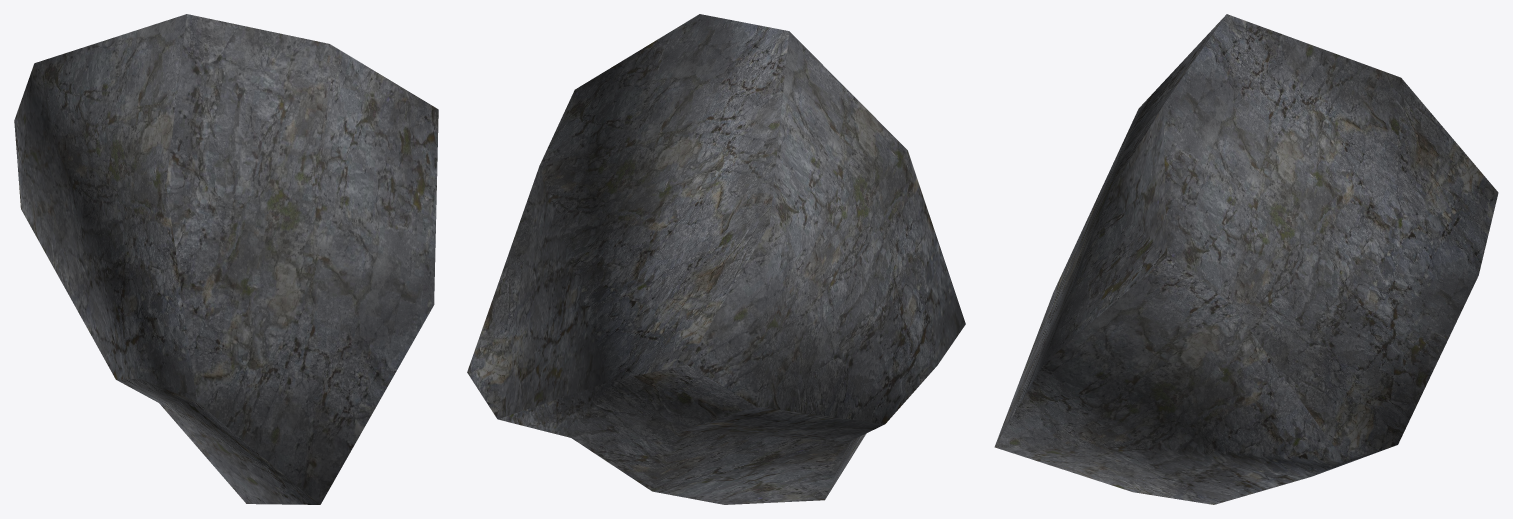
The model's file is largerRock01.fbx.
3 renders of one model, left to right at view 1: azimuth 30°, elevation 25°; view 2: azimuth 150°, elevation 25°; view 3: azimuth 270°, elevation 25°, orthographic. The views are drawn at different scales.
Visible parts, largest first — view 1: rock.000; view 2: rock.000; view 3: rock.000.
Part boxes in pixels (box(x1,y1,x2,y2)): rock.000: box(14, 14, 438, 504); rock.000: box(467, 14, 965, 504); rock.000: box(994, 14, 1498, 504).
Size of the model in its own units: 2369 by 3217 by 3119.
